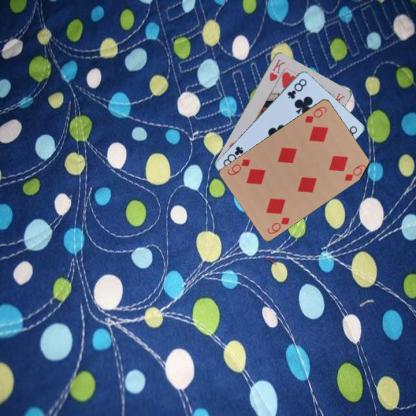6d: (302, 104, 328, 125), (265, 214, 291, 235)
8c: (284, 76, 308, 100)
Kh: (266, 56, 286, 83)
